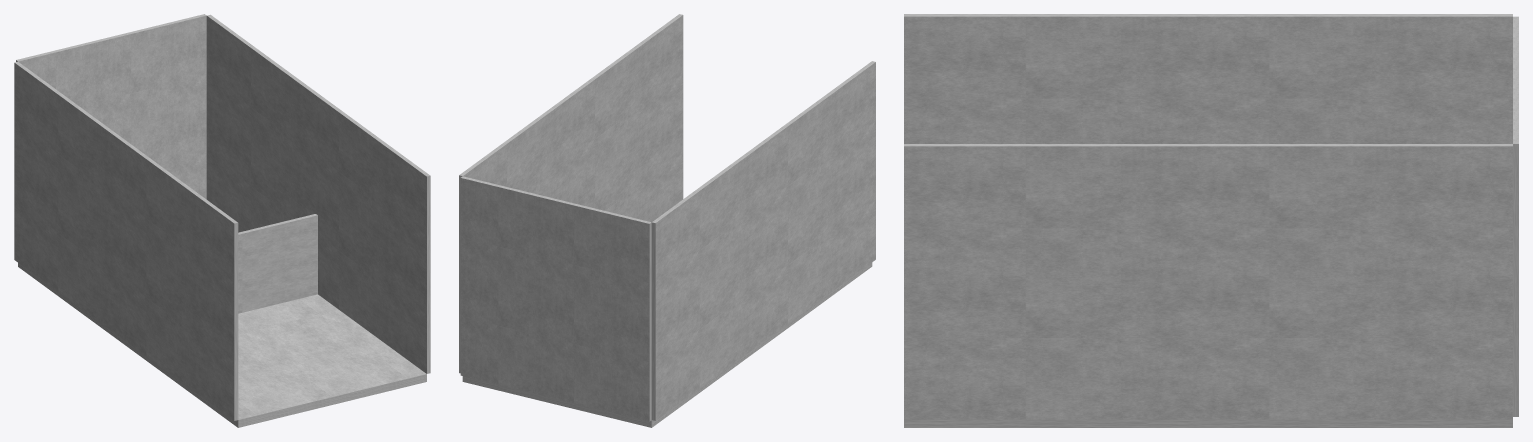
The picture shows the model from 3 angles, left to right: view 1: azimuth 30°, elevation 25°; view 2: azimuth 150°, elevation 25°; view 3: azimuth 270°, elevation 25°; orthographic projection. The views are drawn at different scales.
Visible parts, largest first — view 1: 立方体; view 2: 立方体; view 3: 立方体.
Boxes of the visible parts, x1=… form: 立方体: x1=14, y1=14, x2=430, y2=427; 立方体: x1=459, y1=14, x2=875, y2=427; 立方体: x1=904, y1=14, x2=1518, y2=427.
Bounding box in the file's own units: 10.4 × 10.4 × 20.4.
2 materials, 1 textured.
